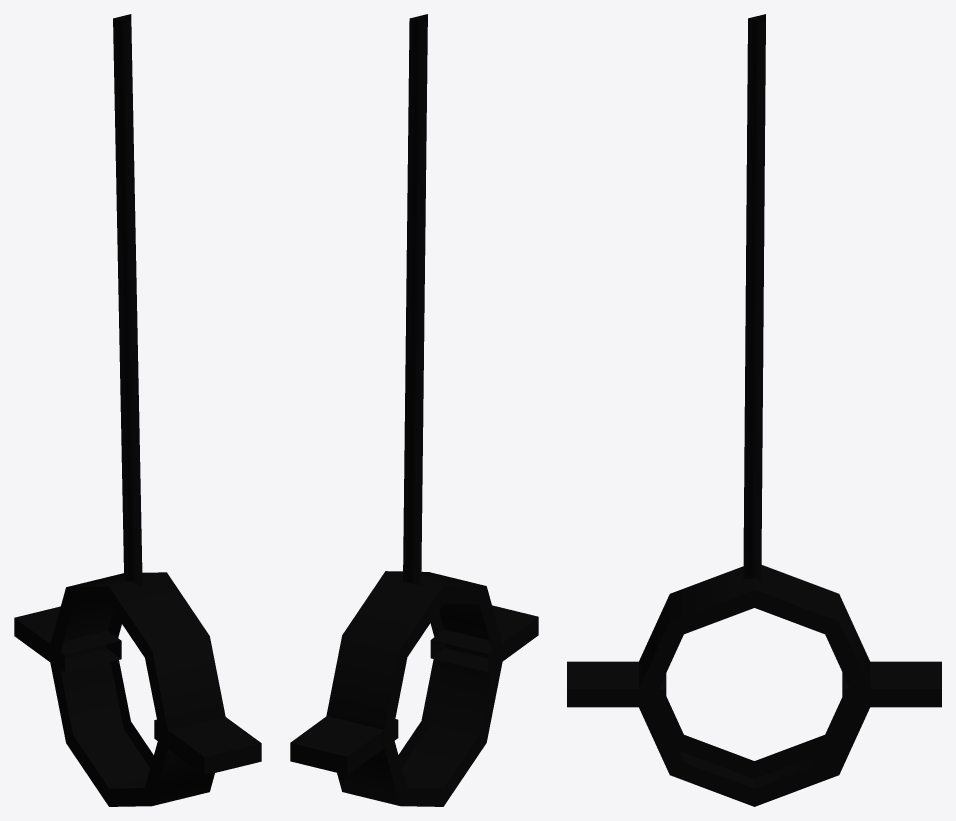
File: MountSmall_A.FBX
3 views of the same model, side by side, from view 1: azimuth 30°, elevation 25°; view 2: azimuth 150°, elevation 25°; view 3: azimuth 270°, elevation 25° (orthographic). The views are drawn at different scales.
Parts seen in each view (by area): view 1: MountSmall_A; view 2: MountSmall_A; view 3: MountSmall_A.
Part boxes in pixels (box(x1,y1,x2,y2)): MountSmall_A: box(14, 14, 261, 806); MountSmall_A: box(290, 14, 538, 806); MountSmall_A: box(567, 14, 941, 806).
Size of the model in its own units: 0.6474 by 8.37 by 3.7.
